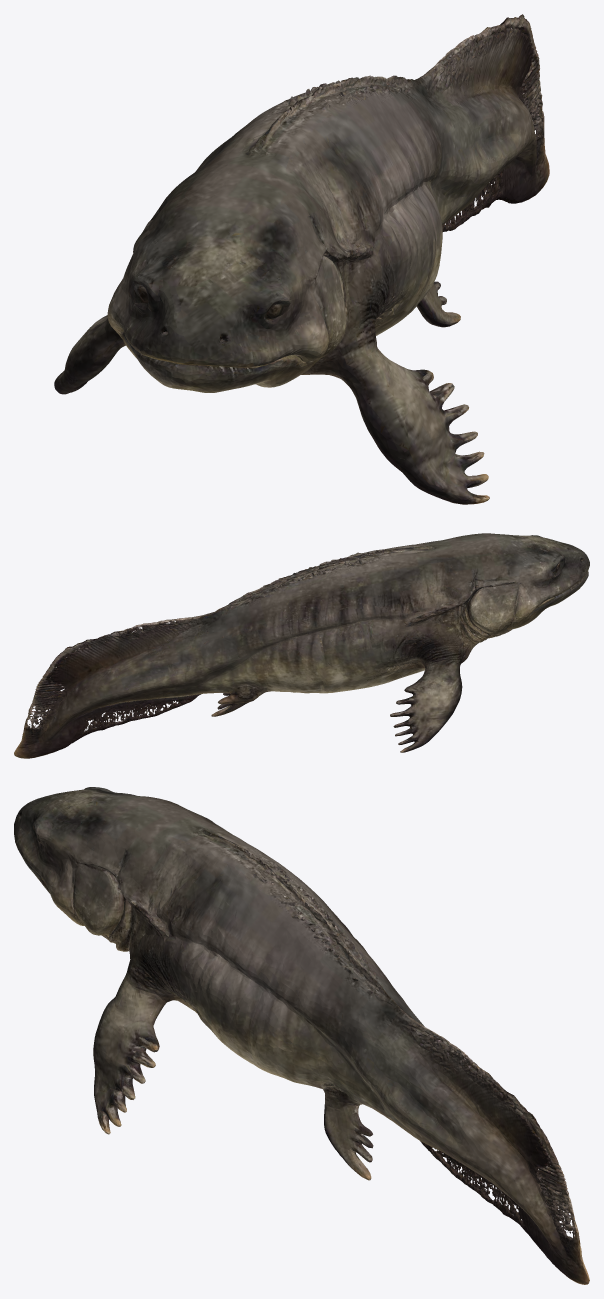
Rendered from tiktaalik.fbx.
3 renders of one model, top to bottom at view 1: azimuth 30°, elevation 25°; view 2: azimuth 150°, elevation 25°; view 3: azimuth 270°, elevation 25°, orthographic. The views are drawn at different scales.
Parts seen in each view (by area): view 1: world; view 2: world; view 3: world.
Part boxes in pixels (x1,y1,x2,y2): world: (54, 14, 549, 504); world: (14, 533, 589, 758); world: (14, 787, 589, 1284).
Bounding box in the file's own units: 199 × 90.49 × 179.
1 material, 1 textured.
